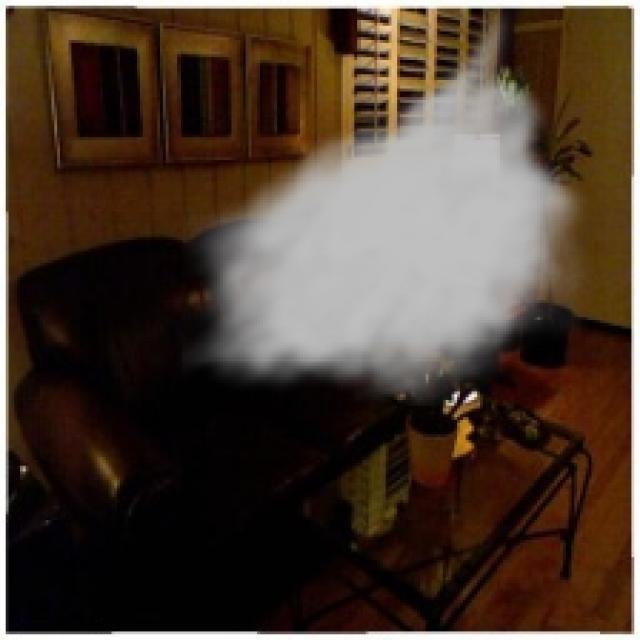Smoke: (177, 0, 594, 406)
